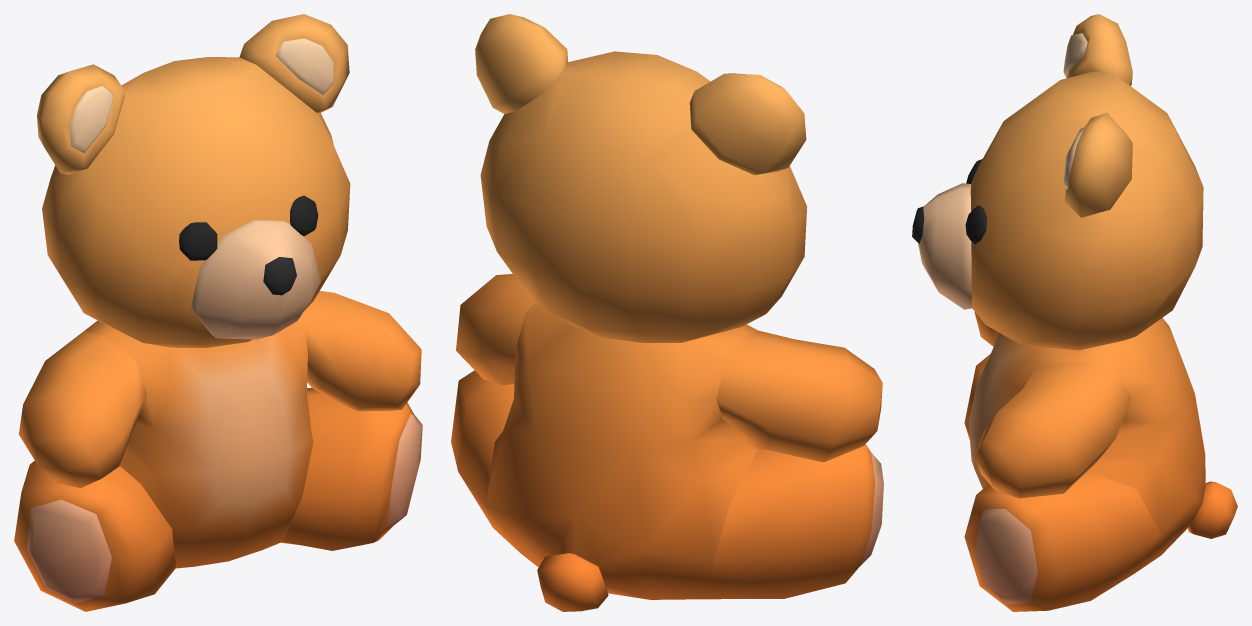
The model's file is Bear_01.fbx.
3 views of the same model, side by side, from view 1: azimuth 30°, elevation 25°; view 2: azimuth 150°, elevation 25°; view 3: azimuth 270°, elevation 25° (orthographic). The views are drawn at different scales.
Visible parts, largest first — view 1: Bear_01; view 2: Bear_01; view 3: Bear_01.
Part boxes in pixels (x1,y1,x2,y2): Bear_01: (14,14,422,611); Bear_01: (451,14,883,611); Bear_01: (912,14,1237,611).
Size of the model in its own units: 32.81 by 25.09 by 41.18.
